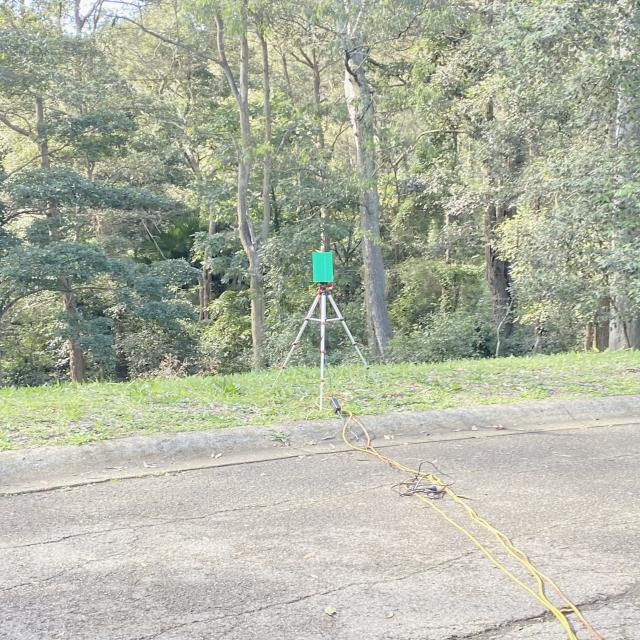matrix: (303, 243, 346, 290)
